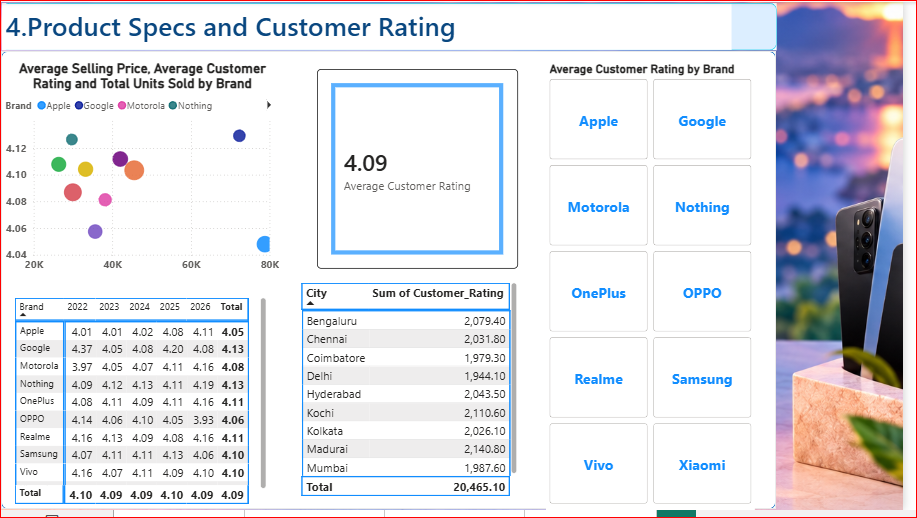

What the dashboard file says about the page in this screenshot:
{"tool":"powerbi","page":{"name":"Customer Rating","canvas":[1280,720],"ordinal":3},"visuals":[{"type":"group","id":"g1","title":"Group 1","box":[2.8,1,1099.5,717.1],"z":0},{"type":"shape","box":[2.8,68.7,1098.2,649.4],"z":0,"group":"g1"},{"type":"advancedSlicerVisual","fields":{"Label":["Dax functions.Average Customer Rating"],"Values":["smartphone smartphone_price_comparison.Brand"]},"box":[775.3,85,296.2,635],"z":1000},{"type":"scatterChart","fields":{"Series":["smartphone smartphone_price_comparison.Brand"],"Size":["Calculations.Total Units Sold"],"X":["Calculations.Average Selling Price"],"Y":["Calculations.Average Customer Rating"]},"box":[4.3,82.2,398.3,310.4],"z":2000},{"type":"tableEx","fields":{"Values":["smartphone smartphone_price_comparison.City","Sum(smartphone smartphone_price_comparison.Customer_Rating)"]},"box":[422.4,392.6,317.5,313.2],"z":3000},{"type":"pivotTable","fields":{"Columns":["smartphone smartphone_price_comparison.Launch_Year"],"Rows":["smartphone smartphone_price_comparison.Brand"],"Values":["Dax functions.Average Customer Rating"]},"box":[17,413.9,367.1,303.3],"z":4000},{"type":"cardVisual","fields":{"Data":["Dax functions.Average Customer Rating"]},"box":[450.9,94.5,284.9,283.5],"z":4001,"group":"g1"},{"type":"shape","box":[4,1,1098.2,67],"z":6000,"group":"g1"},{"type":"textbox","box":[4,2.9,1034.4,64.9],"z":7000,"group":"g1"}]}

Visuals, with their boxes in screenshot pixels (x1, y1, x2, y2), scaled from the page's 1280x720 canvas onto the 917x518 screenshot:
"Group 1" group: <bbox>2, 1, 790, 517</bbox>
shape: <bbox>2, 49, 789, 517</bbox>
advancedSlicerVisual - Dax functions.Average Customer Rating x smartphone smartphone_price_comparison.Brand: <bbox>555, 61, 768, 517</bbox>
scatterChart - smartphone smartphone_price_comparison.Brand x Calculations.Total Units Sold: <bbox>3, 59, 288, 282</bbox>
tableEx - smartphone smartphone_price_comparison.City x Sum(smartphone smartphone_price_comparison.Customer_Rating): <bbox>303, 282, 530, 508</bbox>
pivotTable - smartphone smartphone_price_comparison.Launch_Year x smartphone smartphone_price_comparison.Brand: <bbox>12, 298, 275, 516</bbox>
cardVisual - Dax functions.Average Customer Rating: <bbox>323, 68, 527, 272</bbox>
shape: <bbox>3, 1, 790, 49</bbox>
textbox: <bbox>3, 2, 744, 49</bbox>
